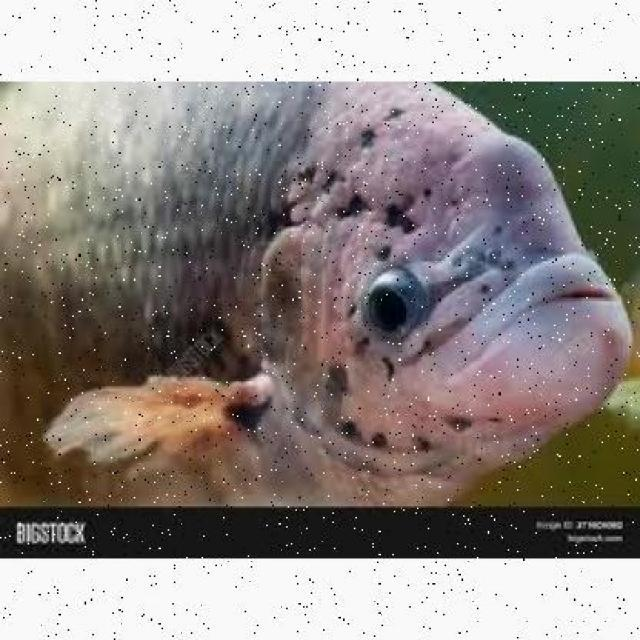gurame: (0, 79, 637, 499)
